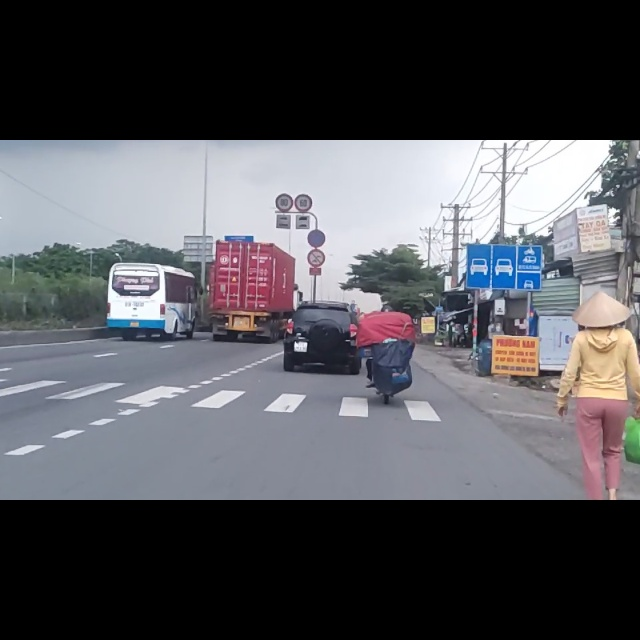bien_cam: (467, 183, 542, 269), (307, 158, 327, 191), (295, 95, 314, 128), (275, 95, 293, 127), (308, 194, 325, 226)
